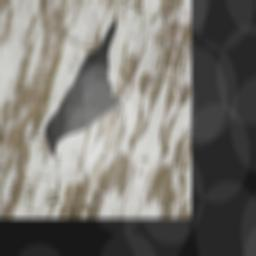Crow: (33, 8, 148, 176)
